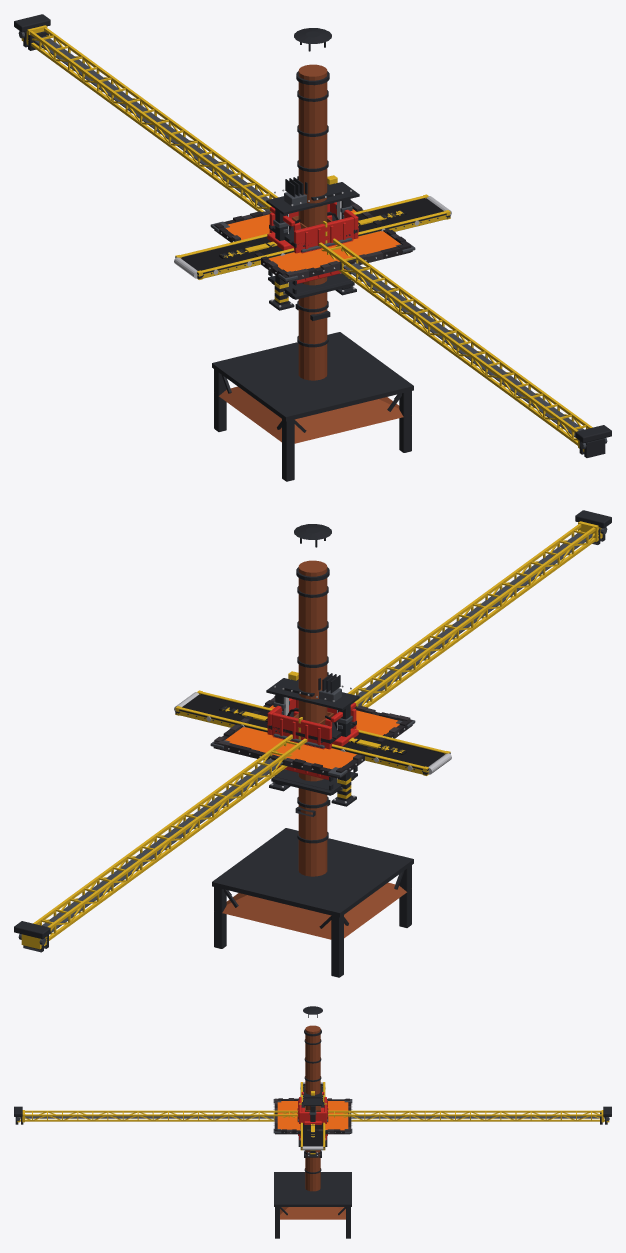
The model's file is FactoryKit.glb.
3 renders of one model, top to bottom at view 1: azimuth 30°, elevation 25°; view 2: azimuth 150°, elevation 25°; view 3: azimuth 270°, elevation 25°, orthographic. The views are drawn at different scales.
Parts seen in each view (by area): view 1: Factory_Furnace__26282E, Factory_CraneBeam__EBB91E, Factory_Furnace__8C4628, Factory_CraneBeam__464A52, Factory_Furnace__FF6E14, Factory_Conveyor__1A1A1E, Factory_PressFrame__26282E, Factory_Grinder__D22823, Factory_Conveyor__EBB91E, Factory_CraneBeam__26282E, Factory_Grinder__26282E, Factory_Furnace__29262B (+1 smaller); view 2: Factory_Furnace__26282E, Factory_CraneBeam__EBB91E, Factory_Furnace__8C4628, Factory_CraneBeam__464A52, Factory_Furnace__FF6E14, Factory_Conveyor__1A1A1E, Factory_PressFrame__26282E, Factory_Grinder__D22823, Factory_Conveyor__EBB91E, Factory_Grinder__26282E, Factory_Furnace__29262B, Factory_CraneBeam__26282E (+1 smaller); view 3: Factory_CraneBeam__EBB91E, Factory_Furnace__26282E, Factory_Furnace__8C4628, Factory_CraneBeam__464A52, Factory_Furnace__FF6E14, Factory_Furnace__29262B, Factory_Conveyor__1A1A1E, Factory_Grinder__D22823, Factory_PressFrame__26282E.
Boxes of the visible parts, x1,y1,x2,y2 form: Factory_Furnace__26282E: (212,28,413,481); Factory_CraneBeam__EBB91E: (21,25,592,451); Factory_Furnace__8C4628: (219,64,403,443); Factory_CraneBeam__464A52: (18,31,607,449); Factory_Furnace__FF6E14: (225,209,400,271); Factory_Conveyor__1A1A1E: (181,198,443,270); Factory_PressFrame__26282E: (266,176,359,310); Factory_Grinder__D22823: (269,202,358,283); Factory_Conveyor__EBB91E: (175,194,450,279); Factory_CraneBeam__26282E: (14,14,611,457); Factory_Grinder__26282E: (268,183,357,299); Factory_Furnace__29262B: (214,200,412,282); Factory_Furnace__26282E: (212,524,413,977); Factory_CraneBeam__EBB91E: (21,521,602,949); Factory_Furnace__8C4628: (222,560,406,939); Factory_CraneBeam__464A52: (18,527,607,945); Factory_Furnace__FF6E14: (225,705,399,769); Factory_Conveyor__1A1A1E: (182,694,444,766); Factory_PressFrame__26282E: (266,672,359,806); Factory_Grinder__D22823: (267,698,356,779); Factory_Conveyor__EBB91E: (175,690,450,775); Factory_Grinder__26282E: (268,679,357,795); Factory_Furnace__29262B: (213,696,412,778); Factory_CraneBeam__26282E: (14,510,611,952); Factory_CraneBeam__EBB91E: (17,1110,609,1122); Factory_Furnace__26282E: (274,1006,351,1238); Factory_Furnace__8C4628: (280,1025,345,1219); Factory_CraneBeam__464A52: (16,1116,609,1120); Factory_Furnace__FF6E14: (277,1101,348,1130); Factory_Furnace__29262B: (274,1098,351,1134); Factory_Conveyor__1A1A1E: (303,1083,322,1146); Factory_Grinder__D22823: (298,1092,327,1140); Factory_PressFrame__26282E: (304,1085,321,1157).
Bounding box in the file's own units: 61.56 × 92.6 × 235.
